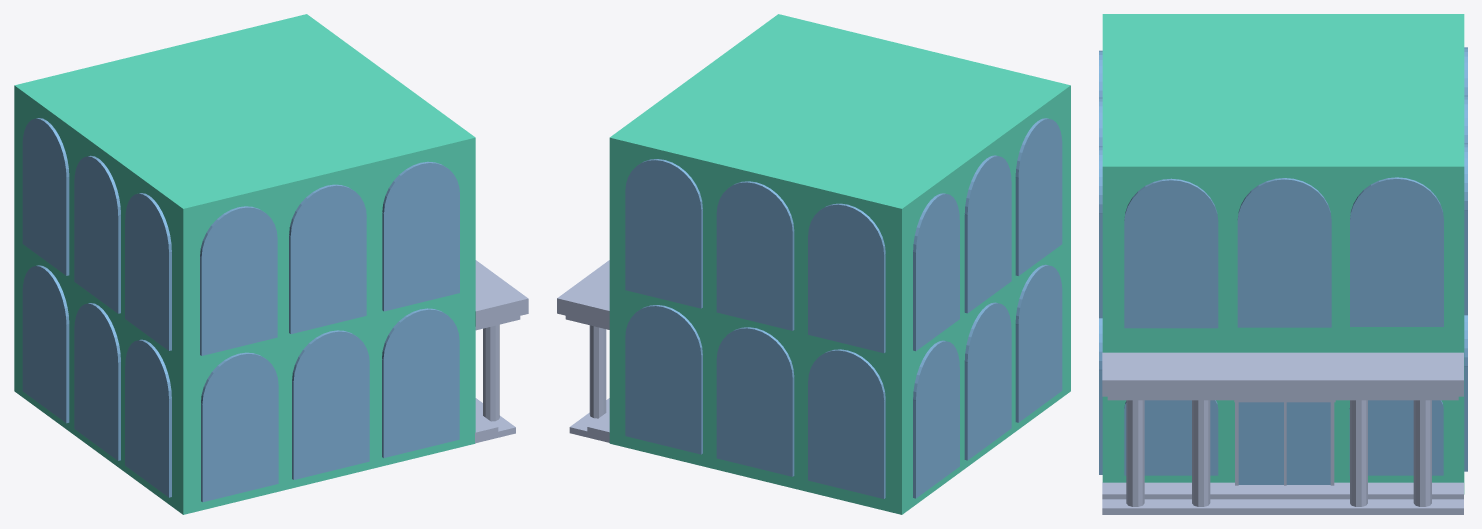
The model's file is officebuilding.glb.
3 renders of one model, left to right at view 1: azimuth 30°, elevation 25°; view 2: azimuth 150°, elevation 25°; view 3: azimuth 270°, elevation 25°, orthographic. The views are drawn at different scales.
Visible parts, largest first — view 1: Cube, Cube.007, Cube.008, Cube.005, Cube.006, Cube.009, Cube.010, Cube.026, Cube.027, Cube.024, Cube.028, Cube.025 (+4 smaller); view 2: Cube, Cube.022, Cube.017, Cube.023, Cube.020, Cube.016, Cube.021, Cube.025, Cube.028, Cube.029, Cube.024, Cube.026 (+4 smaller); view 3: Cube, Cube.011, Cube.004, Cube.001, Cube.003, Cube.002, Cube.012, Cube.013, Cube.015, Cylinder, Cylinder.003, Cylinder.001 (+7 smaller).
Part boxes in pixels (x1=…): Cube: x1=14, y1=14, x2=475, y2=514; Cube.007: x1=200, y1=206, x2=277, y2=355; Cube.008: x1=292, y1=330, x2=369, y2=479; Cube.005: x1=382, y1=161, x2=459, y2=311; Cube.006: x1=289, y1=184, x2=366, y2=334; Cube.009: x1=382, y1=308, x2=459, y2=458; Cube.010: x1=201, y1=352, x2=278, y2=502; Cube.026: x1=22, y1=118, x2=69, y2=275; Cube.027: x1=22, y1=265, x2=69, y2=423; Cube.024: x1=125, y1=193, x2=171, y2=350; Cube.028: x1=74, y1=303, x2=120, y2=460; Cube.025: x1=74, y1=155, x2=120, y2=313; Cube: x1=609, y1=14, x2=1070, y2=514; Cube.022: x1=716, y1=327, x2=794, y2=476; Cube.017: x1=716, y1=181, x2=794, y2=330; Cube.023: x1=808, y1=349, x2=885, y2=498; Cube.020: x1=808, y1=203, x2=885, y2=353; Cube.016: x1=625, y1=159, x2=702, y2=308; Cube.021: x1=625, y1=305, x2=702, y2=454; Cube.025: x1=964, y1=155, x2=1011, y2=313; Cube.028: x1=964, y1=302, x2=1011, y2=460; Cube.029: x1=1015, y1=264, x2=1062, y2=422; Cube.024: x1=1015, y1=118, x2=1062, y2=275; Cube.026: x1=913, y1=193, x2=959, y2=351; Cube: x1=1102, y1=14, x2=1464, y2=494; Cube.011: x1=1102, y1=352, x2=1463, y2=396; Cube.004: x1=1124, y1=178, x2=1218, y2=328; Cube.001: x1=1237, y1=178, x2=1331, y2=327; Cube.003: x1=1350, y1=177, x2=1443, y2=326; Cube.002: x1=1102, y1=482, x2=1463, y2=514; Cube.012: x1=1238, y1=402, x2=1330, y2=484; Cube.013: x1=1124, y1=400, x2=1218, y2=475; Cube.015: x1=1349, y1=400, x2=1443, y2=475; Cylinder: x1=1192, y1=400, x2=1210, y2=506; Cylinder.003: x1=1413, y1=400, x2=1431, y2=506; Cylinder.001: x1=1126, y1=400, x2=1144, y2=506.
Bounding box in the file's own units: 2.38 × 2 × 2.04.
